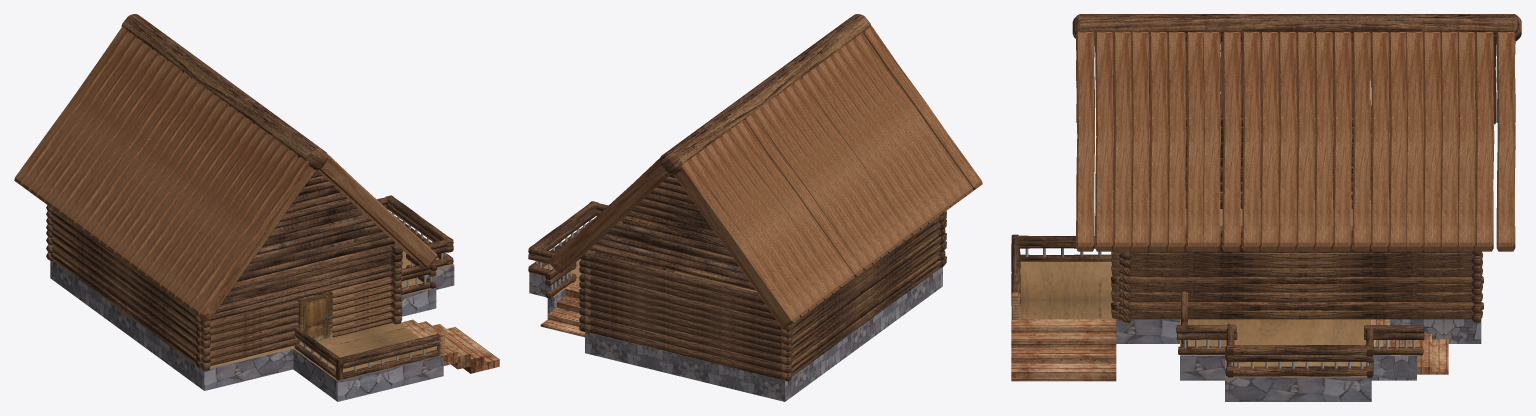
The model's file is Lucas_Stuga.fbx.
3 renders of one model, left to right at view 1: azimuth 30°, elevation 25°; view 2: azimuth 150°, elevation 25°; view 3: azimuth 270°, elevation 25°, orthographic. The views are drawn at different scales.
Visible parts, largest first — view 1: polySurface1686; view 2: polySurface1686; view 3: polySurface1686.
Boxes of the visible parts, x1=… form: polySurface1686: x1=14, y1=14, x2=499, y2=401; polySurface1686: x1=528, y1=14, x2=982, y2=401; polySurface1686: x1=1011, y1=14, x2=1521, y2=401.
Bounding box in the file's own units: 2061 × 1448 × 2419.
